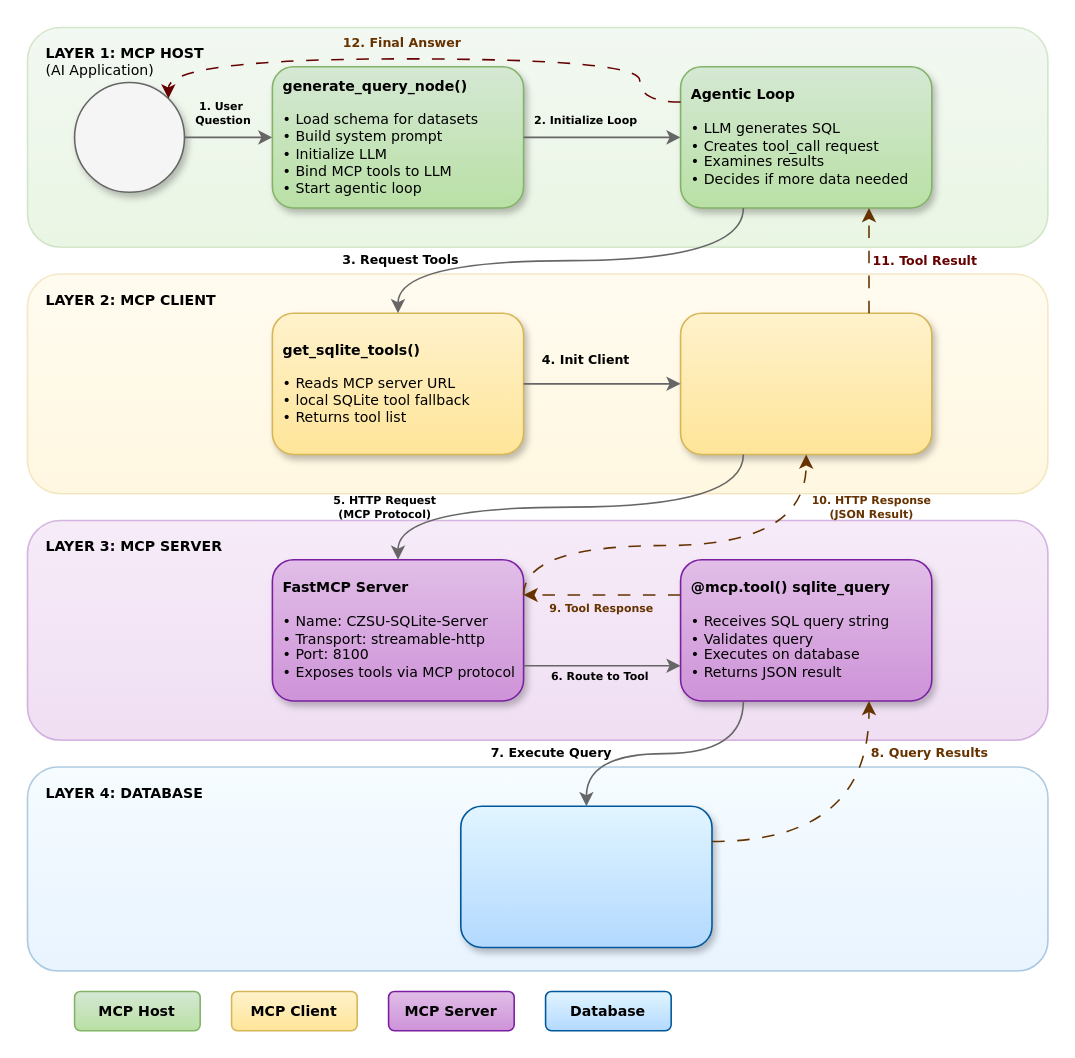
Image size: 1075x1058. Some labels were removed from this diagram. The shapes that lost their labels are listed below. From the top down, each one's centre as x and y in pixels, then its label:
[130,139]: User Prompt
[807,385]: MultiServerMCPClient • Connect via Streamable HTTP • Get available tools
[587,878]: Turso SQLite Cloud • Remote database • Connected via libsql
